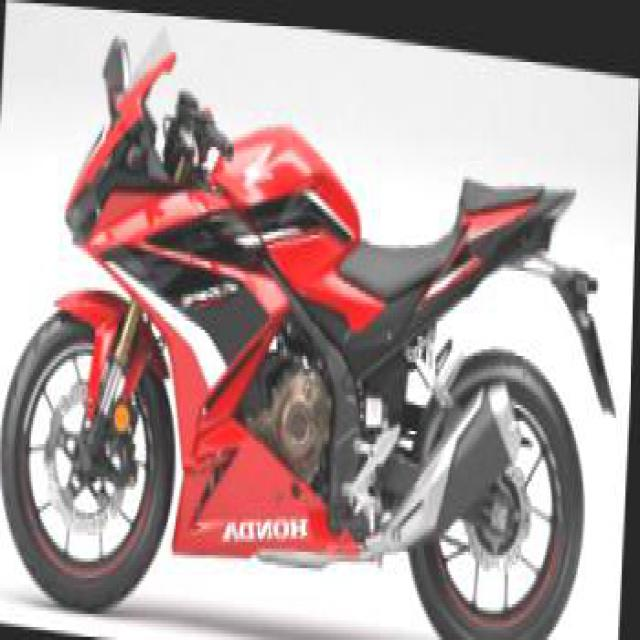CBR500R: (0, 0, 611, 637)
